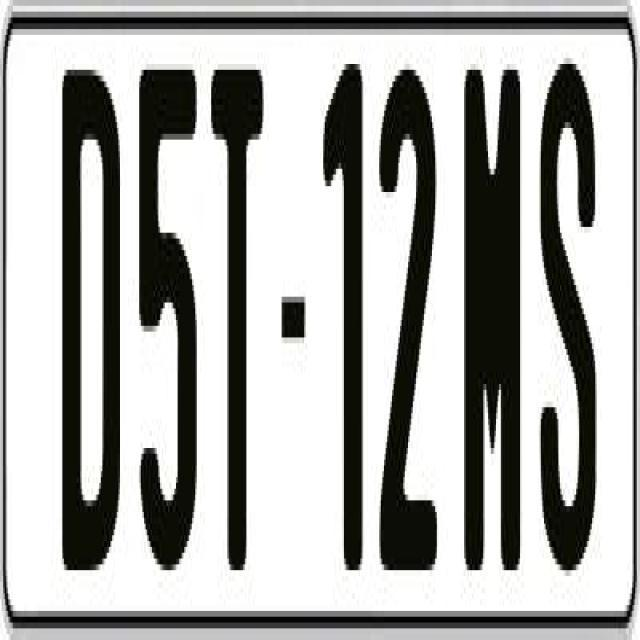1: (324, 64, 366, 576)
2: (380, 58, 444, 570)
5: (136, 52, 195, 570)
D: (62, 58, 128, 576)
M: (464, 70, 520, 582)
S: (541, 52, 605, 576)
T: (210, 70, 268, 576)
